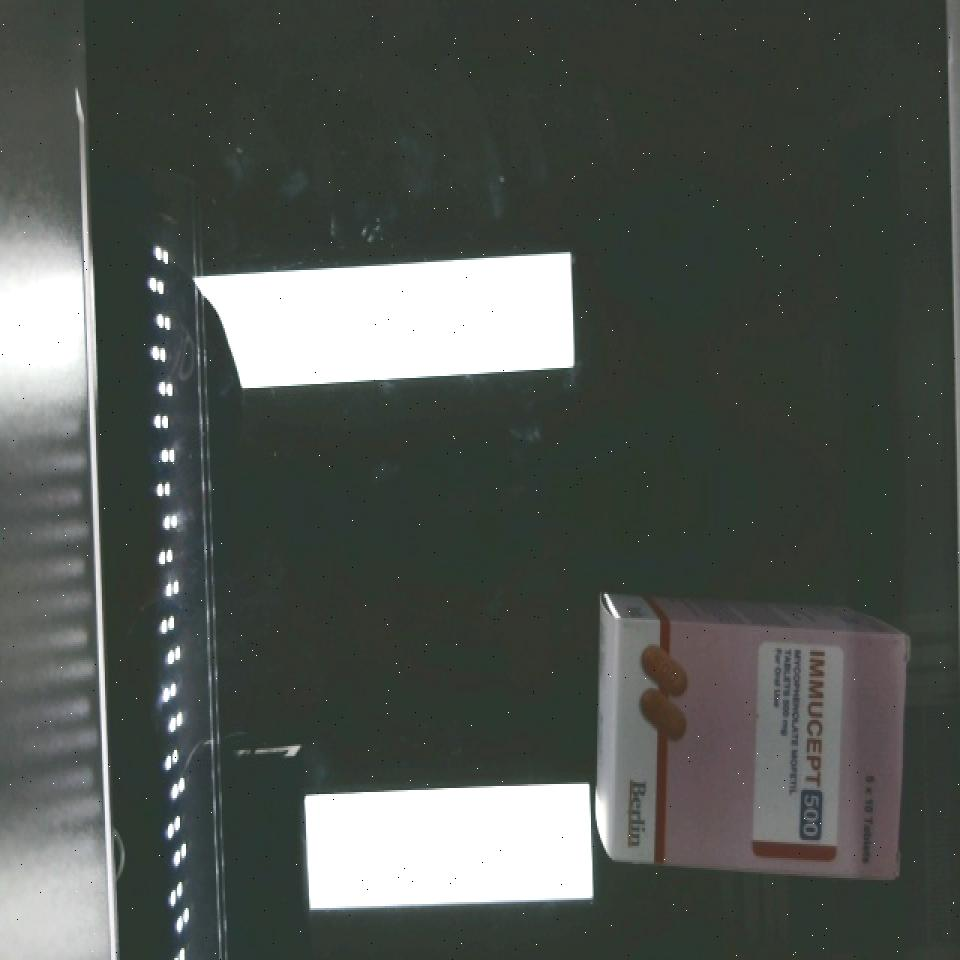medicine_box: (599, 617, 916, 881)
medicine_label_obb: (791, 643, 842, 860)
